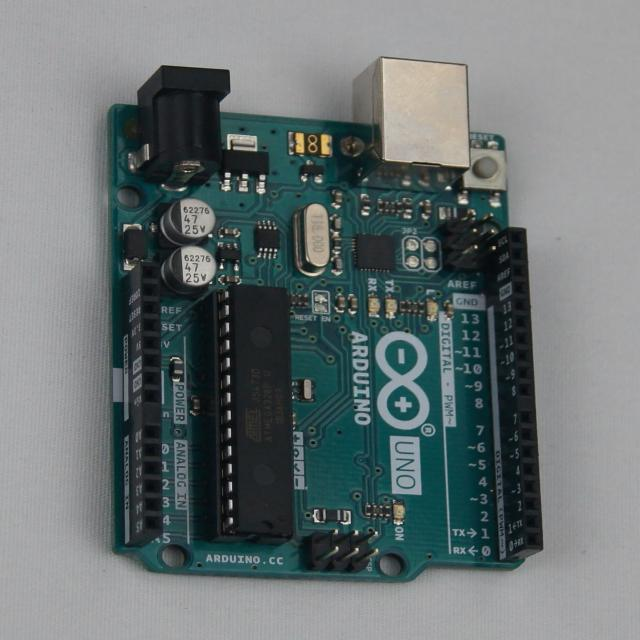Arduino Uno -Green-: (111, 59, 543, 581)
